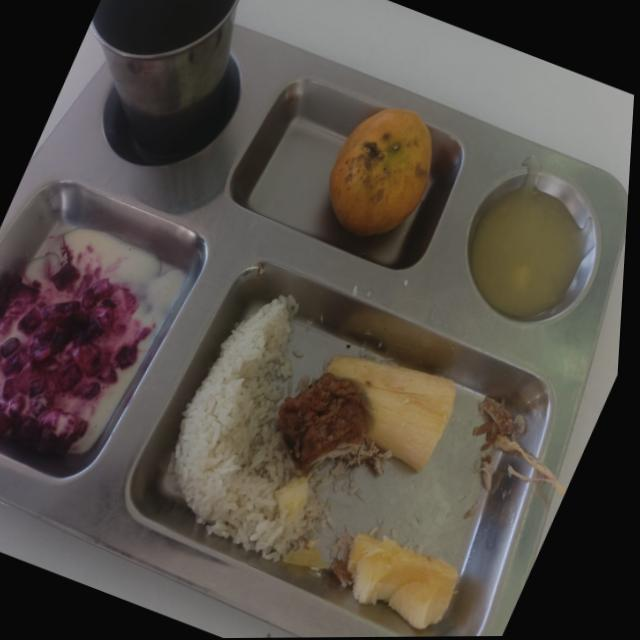arroz: (172, 296, 318, 560), (294, 487, 313, 500), (298, 545, 299, 546), (318, 505, 319, 506)
mandarina: (329, 108, 430, 236)
pescado frito: (277, 373, 366, 473)
yuca: (327, 355, 454, 472), (346, 533, 455, 628)
